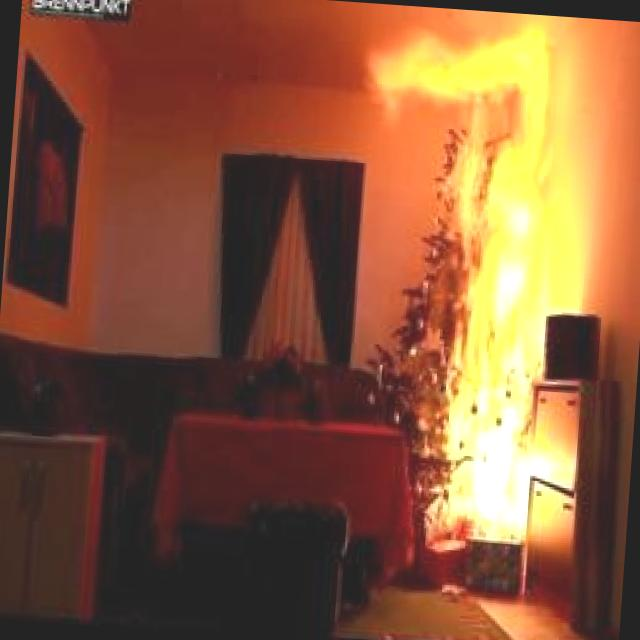fire: (318, 3, 640, 577)
